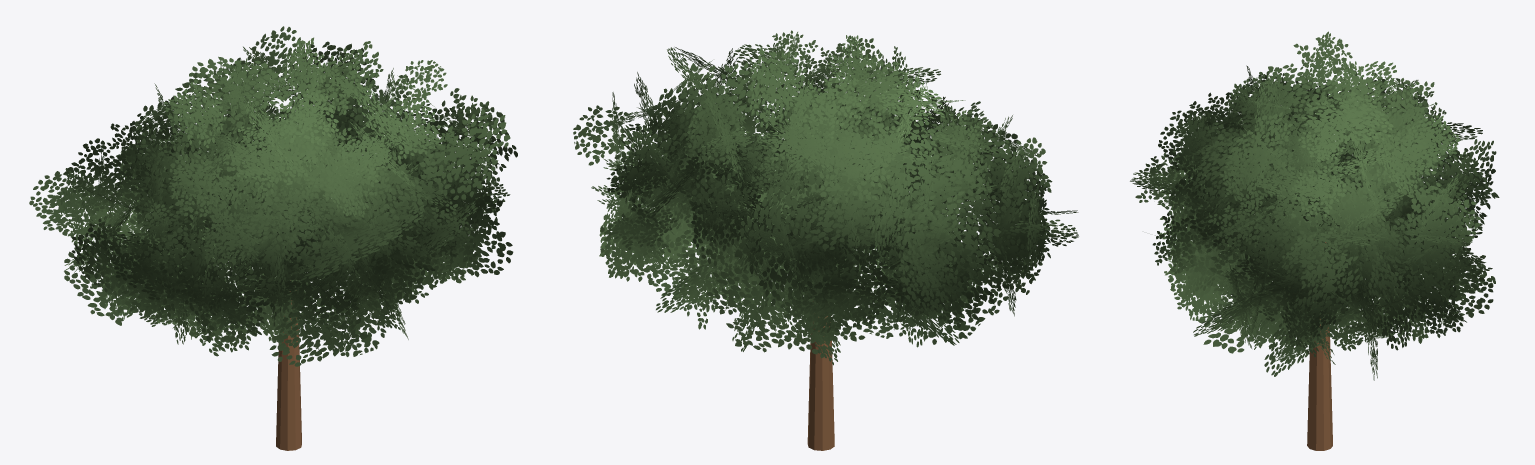
File: tree_small_broad_canopy.glb
The picture shows the model from 3 angles, left to right: view 1: azimuth 30°, elevation 25°; view 2: azimuth 150°, elevation 25°; view 3: azimuth 270°, elevation 25°; orthographic projection. The views are drawn at different scales.
Parts seen in each view (by area): view 1: Tree_Foliage_480Cards_BroadSparse, Tree_Trunk_Straight; view 2: Tree_Foliage_480Cards_BroadSparse, Tree_Trunk_Straight; view 3: Tree_Foliage_480Cards_BroadSparse, Tree_Trunk_Straight.
Boxes of the visible parts, x1=… form: Tree_Foliage_480Cards_BroadSparse: x1=29, y1=26, x2=517, y2=366; Tree_Trunk_Straight: x1=276, y1=280, x2=301, y2=450; Tree_Foliage_480Cards_BroadSparse: x1=573, y1=30, x2=1078, y2=365; Tree_Trunk_Straight: x1=807, y1=301, x2=834, y2=450; Tree_Foliage_480Cards_BroadSparse: x1=1130, y1=31, x2=1499, y2=380; Tree_Trunk_Straight: x1=1307, y1=242, x2=1332, y2=450.
Size of the model in its own units: 7.7 by 6.24 by 5.77.
Materials: 2 (1 with a texture image).
